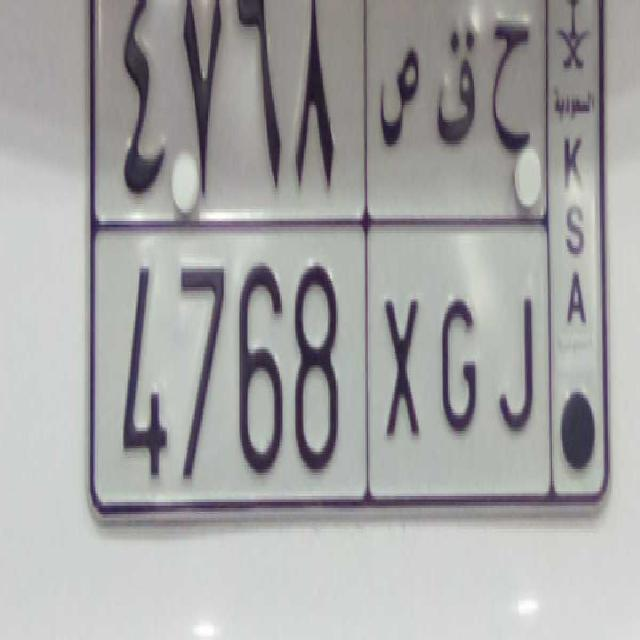license_plate: (92, 212, 550, 515)
